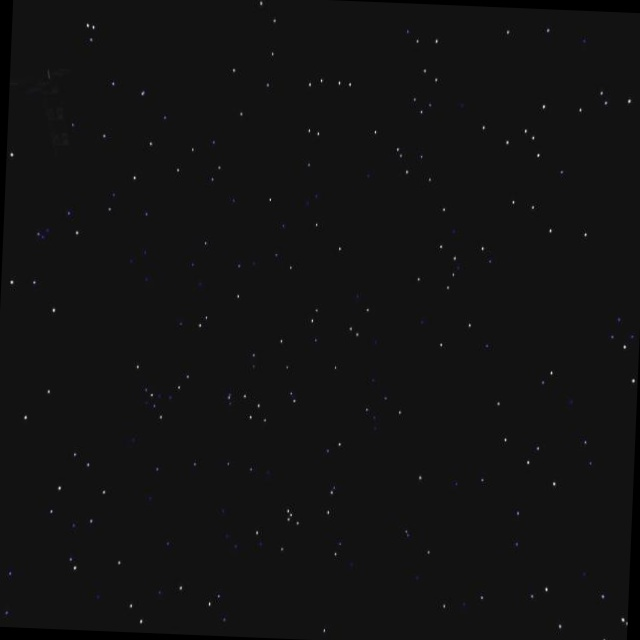medium_debris: (7, 52, 96, 150)
